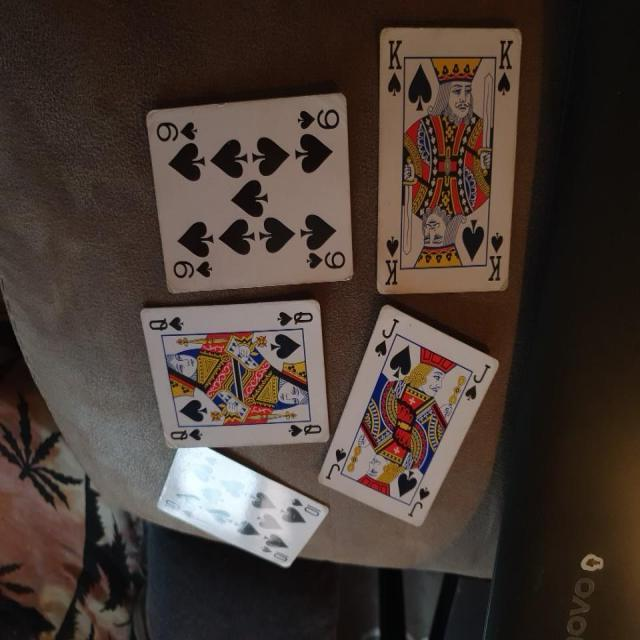10 of spades: (152, 444, 334, 576)
9 of spades: (142, 87, 360, 298)
jack of spades: (314, 301, 508, 535)
king of spades: (372, 13, 524, 299)
queen of spades: (138, 298, 332, 450)
